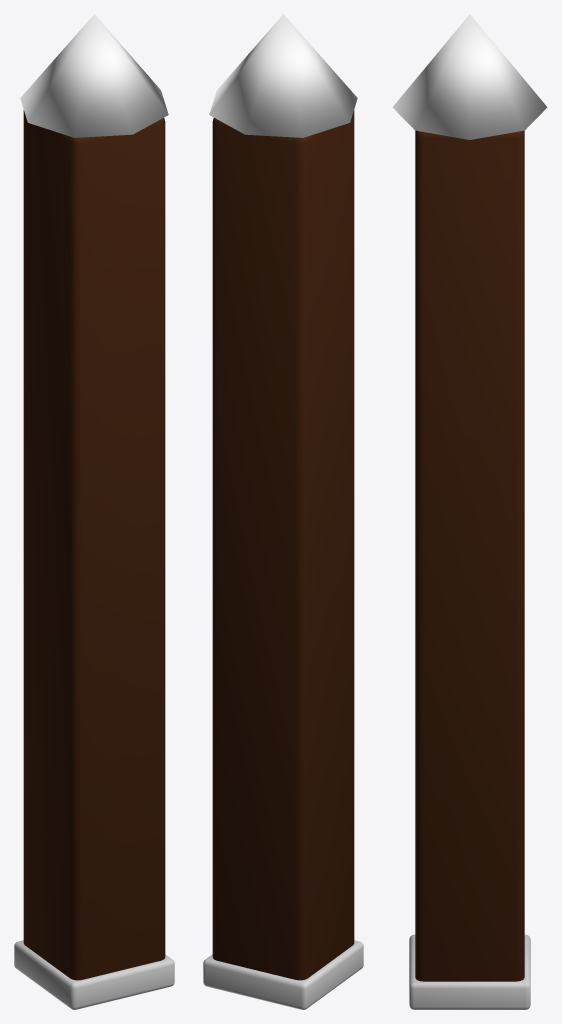
Rendered from wooden-post.obj.
3 views of the same model, side by side, from view 1: azimuth 30°, elevation 25°; view 2: azimuth 150°, elevation 25°; view 3: azimuth 270°, elevation 25° (orthographic).
Parts seen in each view (by area): view 1: wooden-post; view 2: wooden-post; view 3: wooden-post.
Boxes of the visible parts, x1,y1,x2,y2 form: wooden-post: [14, 14, 174, 1009]; wooden-post: [203, 14, 363, 1009]; wooden-post: [392, 14, 547, 1009].
Bounding box in the file's own units: 0.256 × 1.77 × 0.256.
